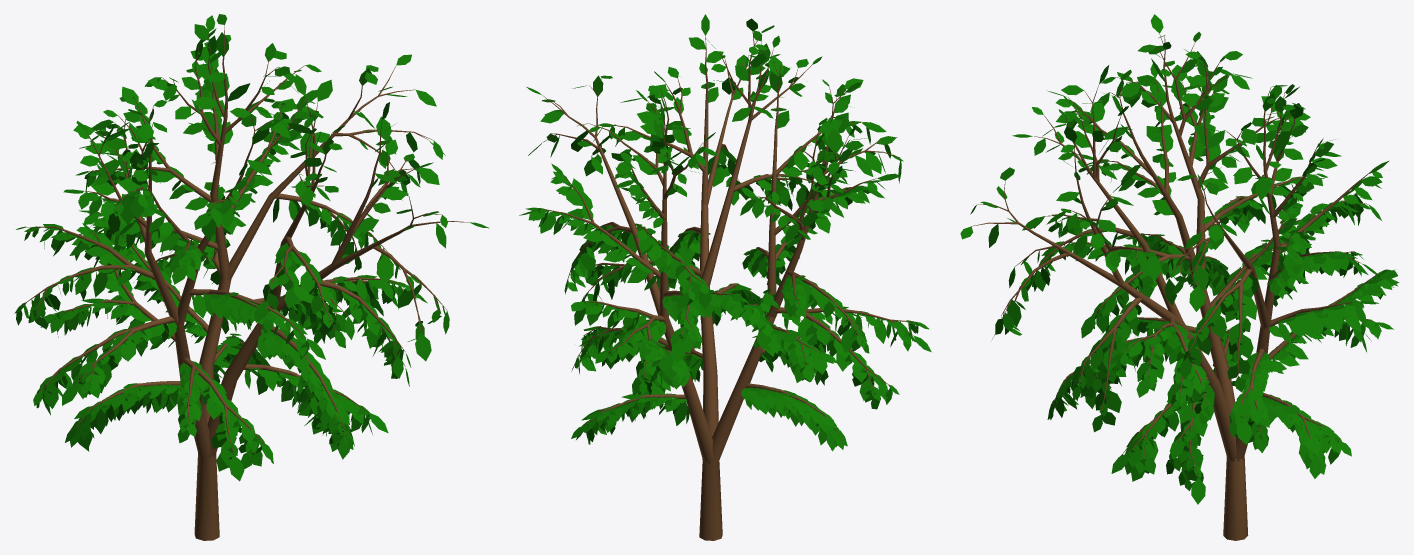
File: Tree1 1.fbx
3 renders of one model, left to right at view 1: azimuth 30°, elevation 25°; view 2: azimuth 150°, elevation 25°; view 3: azimuth 270°, elevation 25°, orthographic. The views are drawn at different scales.
Visible parts, largest first — view 1: leaves, tree; view 2: leaves, tree; view 3: leaves, tree.
Boxes of the visible parts, <box> form: leaves: <box>14,14,489,481</box>; tree: <box>20,25,468,540</box>; leaves: <box>519,14,931,451</box>; tree: <box>540,32,917,540</box>; leaves: <box>960,14,1399,504</box>; tree: <box>971,34,1378,540</box>.
Size of the model in its own units: 558 by 656 by 542.
